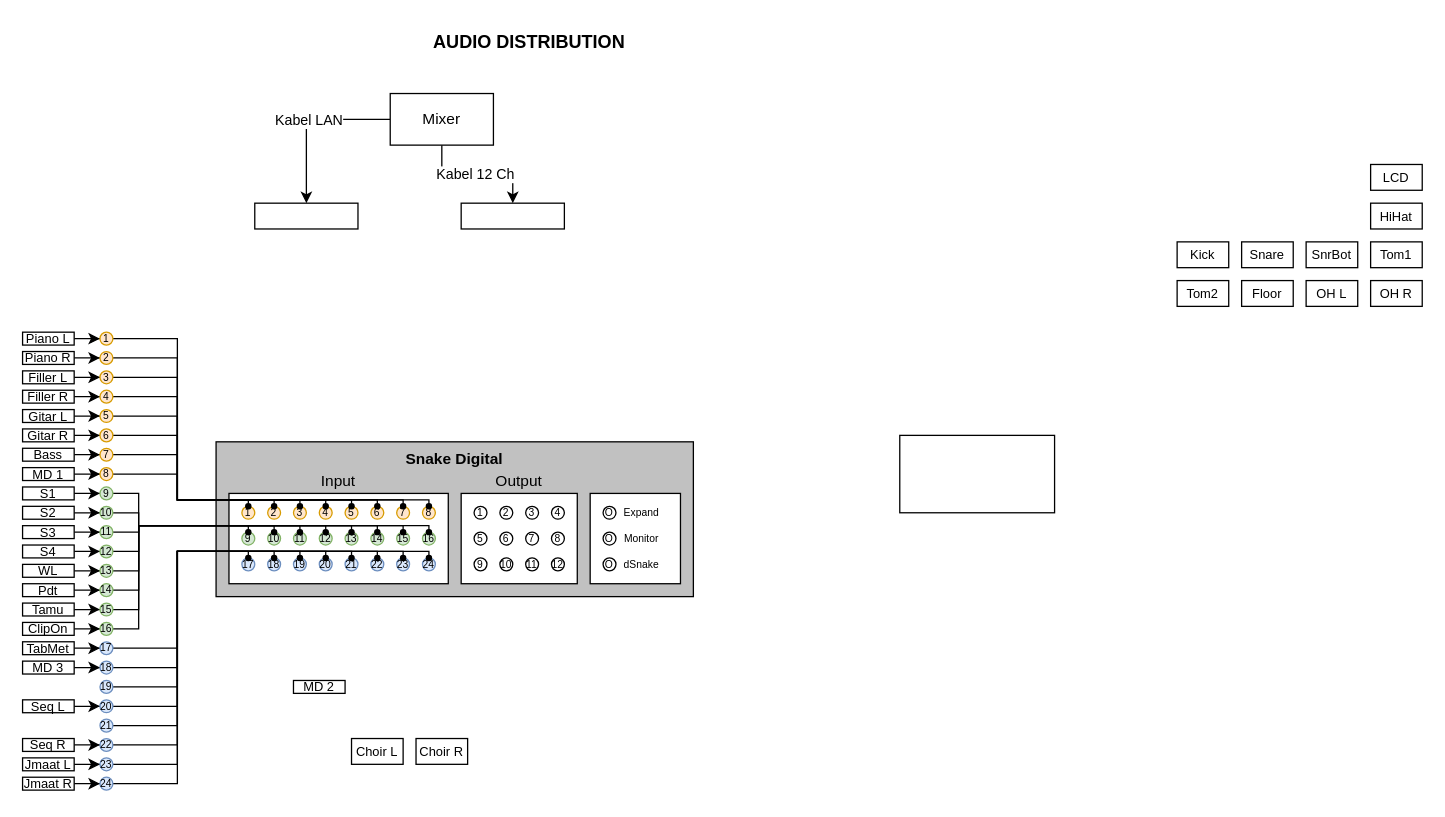
Some shapes in this 1445 by 817 pixel diagram are drawn without their labels. Each missing label, with the centre of its shape:
Analog Snake: the point at 512,215
Digital Snake: the point at 305,215
MIXER 48 Channel: the point at 976,473
